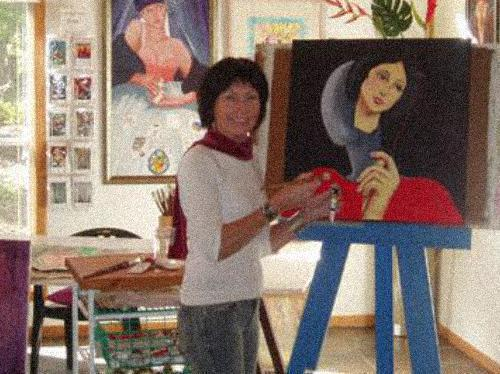Otro Obstaculo: (264, 31, 495, 374), (0, 234, 29, 374)
